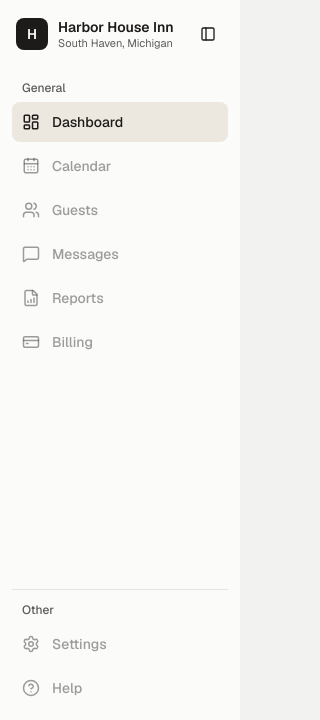
Sidebar › snaps between the panel and the rail from its top-row control, remembering the state in a cookie
Click the button named "Collapse sidebar": (208, 34) [192, 18, 224, 50]
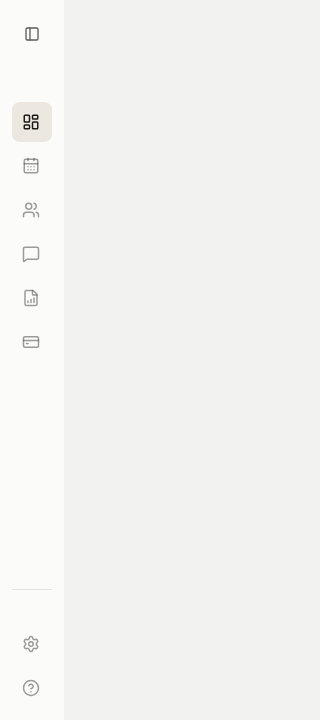
Expected: the button named "Expand sidebar" is shown, [16, 18, 48, 50]
